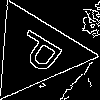P: (11, 27, 74, 80)
